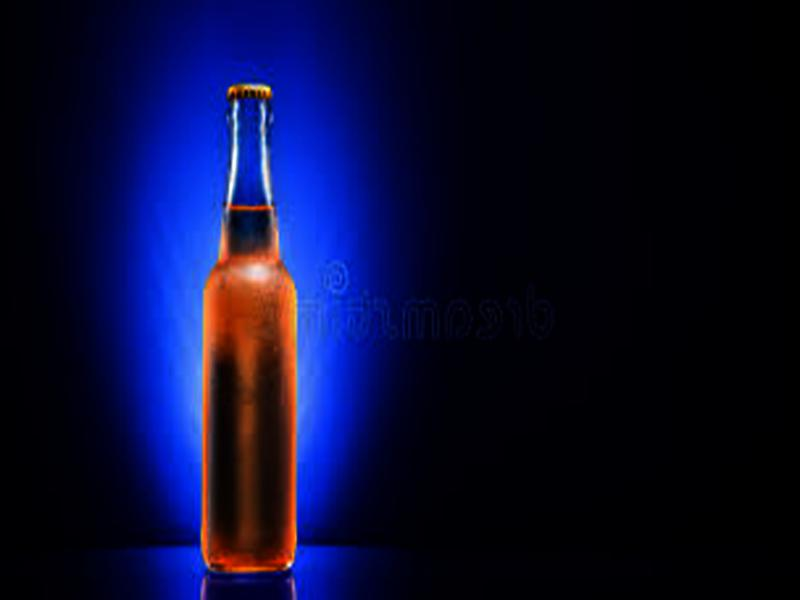Beer: (196, 83, 299, 571)
